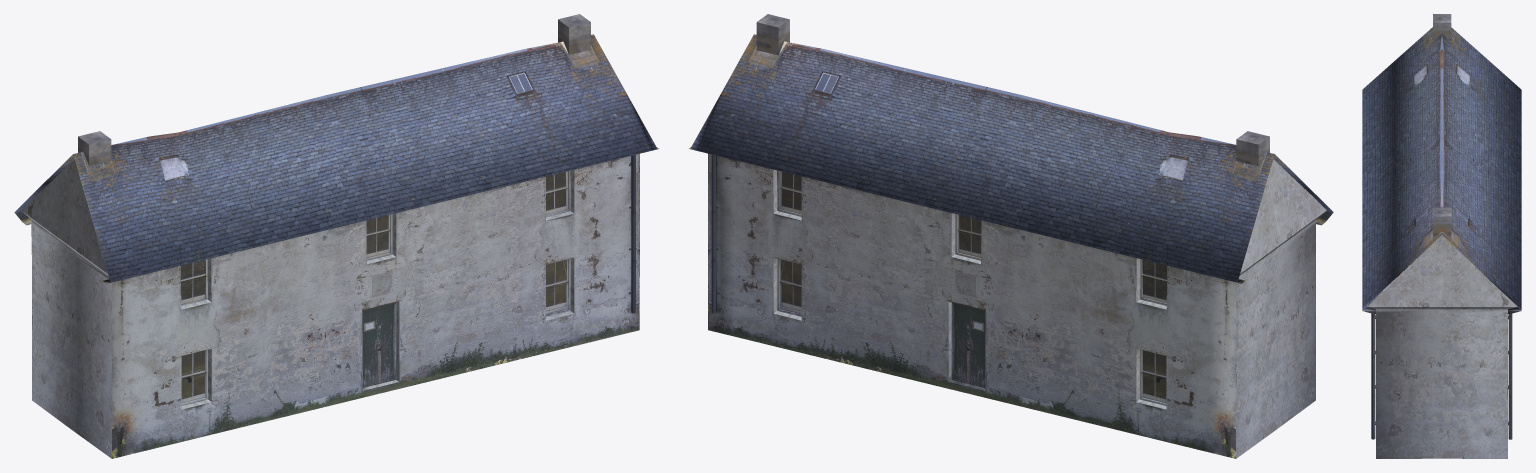
The model's file is Cottage.glb.
The picture shows the model from 3 angles, left to right: view 1: azimuth 30°, elevation 25°; view 2: azimuth 150°, elevation 25°; view 3: azimuth 270°, elevation 25°; orthographic projection. The views are drawn at different scales.
Visible parts, largest first — view 1: unnamed; view 2: unnamed; view 3: unnamed.
Boxes of the visible parts, <box> form: unnamed: <box>14,14,659,458</box>; unnamed: <box>688,14,1333,458</box>; unnamed: <box>1362,14,1521,458</box>.
Bounding box in the file's own units: 1577 × 786 × 479.
1 material, 1 textured.
